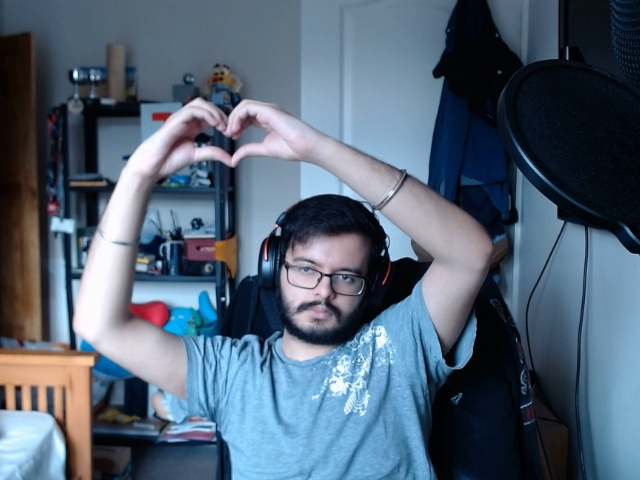Heart: (134, 97, 307, 166)
